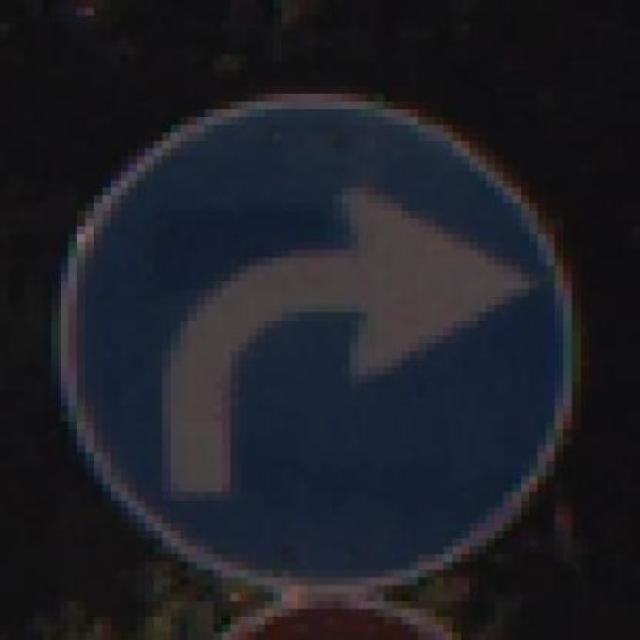Turn right ahead: (42, 78, 588, 585)
